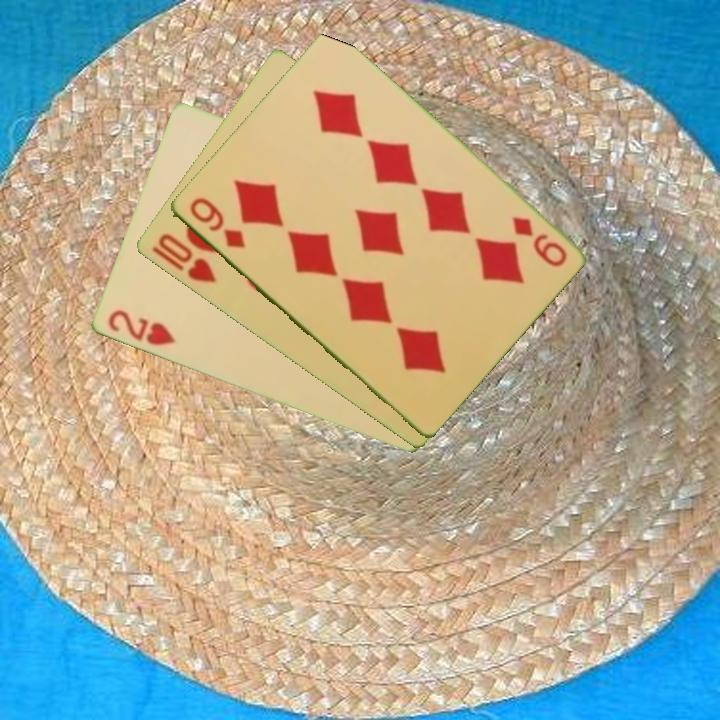10h: (147, 230, 219, 286)
2h: (104, 306, 178, 349)
9d: (185, 194, 248, 252), (508, 212, 570, 270)
